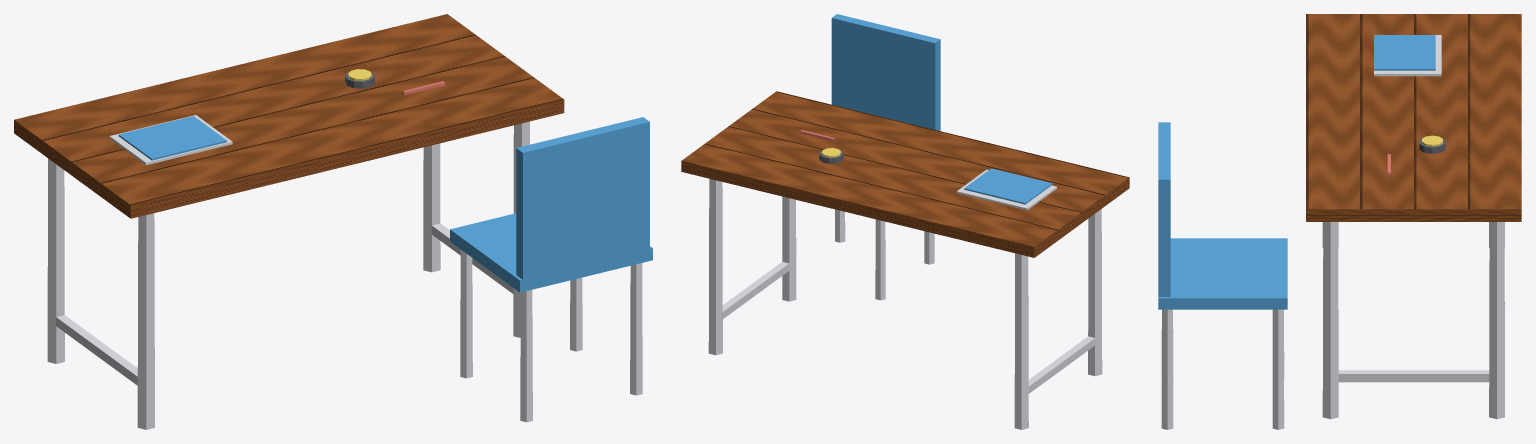
The model's file is dog-agility-and-training-field-judges-table-8d864aa8__35600.glb.
3 renders of one model, left to right at view 1: azimuth 30°, elevation 25°; view 2: azimuth 150°, elevation 25°; view 3: azimuth 270°, elevation 25°, orthographic. The views are drawn at different scales.
Visible parts, largest first — view 1: judges-table-timber, judges-table-azure, judges-table-steel; view 2: judges-table-timber, judges-table-steel, judges-table-azure; view 3: judges-table-timber, judges-table-azure, judges-table-steel.
Part boxes in pixels (x1=…): judges-table-timber: x1=14, y1=14, x2=564, y2=218; judges-table-azure: x1=118, y1=116, x2=652, y2=292; judges-table-steel: x1=47, y1=115, x2=642, y2=429; judges-table-timber: x1=681, y1=91, x2=1129, y2=257; judges-table-steel: x1=708, y1=169, x2=1102, y2=429; judges-table-azure: x1=831, y1=14, x2=1052, y2=204; judges-table-timber: x1=1306, y1=14, x2=1521, y2=221; judges-table-azure: x1=1158, y1=35, x2=1435, y2=309; judges-table-steel: x1=1161, y1=35, x2=1504, y2=429.
Size of the model in its own units: 1.53 by 0.9 by 1.18.
Materials: 6 (1 with a texture image).
